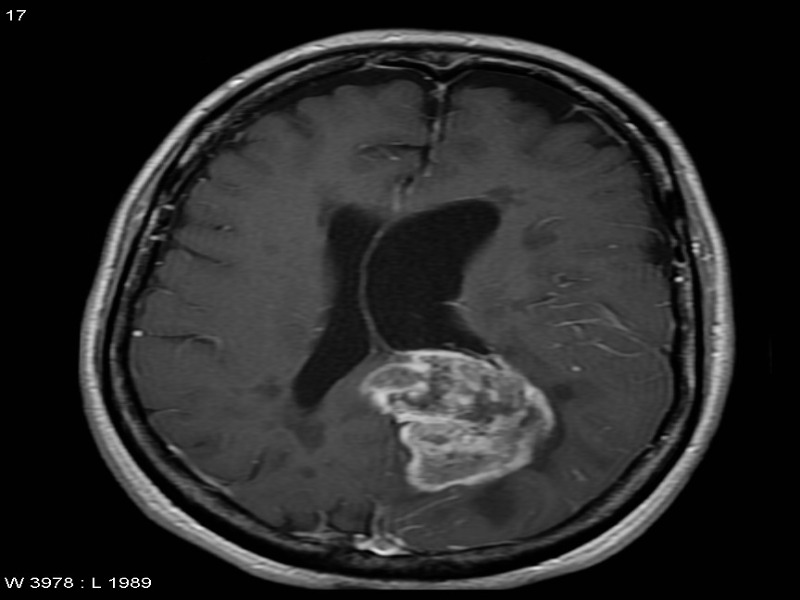tumor: (363, 334, 560, 497)
